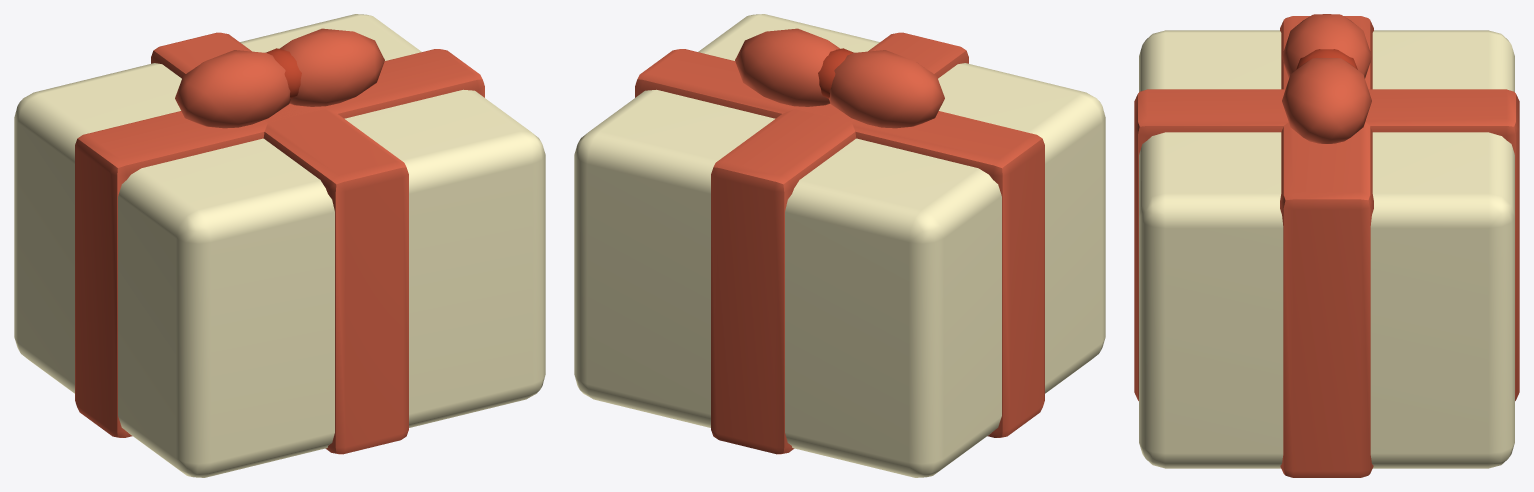
Rendered from prop_present.glb.
3 views of the same model, side by side, from view 1: azimuth 30°, elevation 25°; view 2: azimuth 150°, elevation 25°; view 3: azimuth 270°, elevation 25° (orthographic). The views are drawn at different scales.
Parts seen in each view (by area): view 1: present_box, present_ribbon_x, present_ribbon_z, present_bow_l, present_bow_r, present_bow_c; view 2: present_box, present_ribbon_x, present_ribbon_z, present_bow_l, present_bow_r, present_bow_c; view 3: present_box, present_ribbon_z, present_ribbon_x, present_bow_r, present_bow_l, present_bow_c.
Part boxes in pixels (box(x1,y1,x2,y2)): present_box: box(14, 14, 545, 477); present_ribbon_x: box(151, 32, 408, 454); present_ribbon_z: box(75, 49, 484, 437); present_bow_l: box(175, 50, 290, 128); present_bow_r: box(279, 28, 384, 106); present_bow_c: box(265, 48, 301, 98); present_box: box(574, 14, 1105, 477); present_ribbon_x: box(711, 32, 968, 454); present_ribbon_z: box(635, 49, 1044, 437); present_bow_l: box(829, 50, 944, 128); present_bow_r: box(735, 28, 840, 106); present_bow_c: box(818, 48, 854, 98); present_box: box(1139, 30, 1514, 468); present_ribbon_z: box(1280, 16, 1373, 477); present_ribbon_x: box(1134, 89, 1519, 400); present_bow_r: box(1282, 58, 1371, 143); present_bow_l: box(1282, 14, 1371, 78); present_bow_c: box(1296, 49, 1357, 69).
Bounding box in the file's own units: 0.47 × 0.4065 × 0.41.
